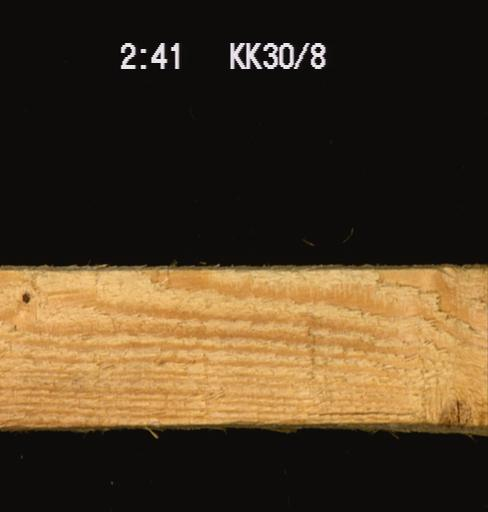edge_knot: (439, 388, 477, 431)
small_knot: (11, 283, 41, 310)
split: (304, 399, 418, 419)
